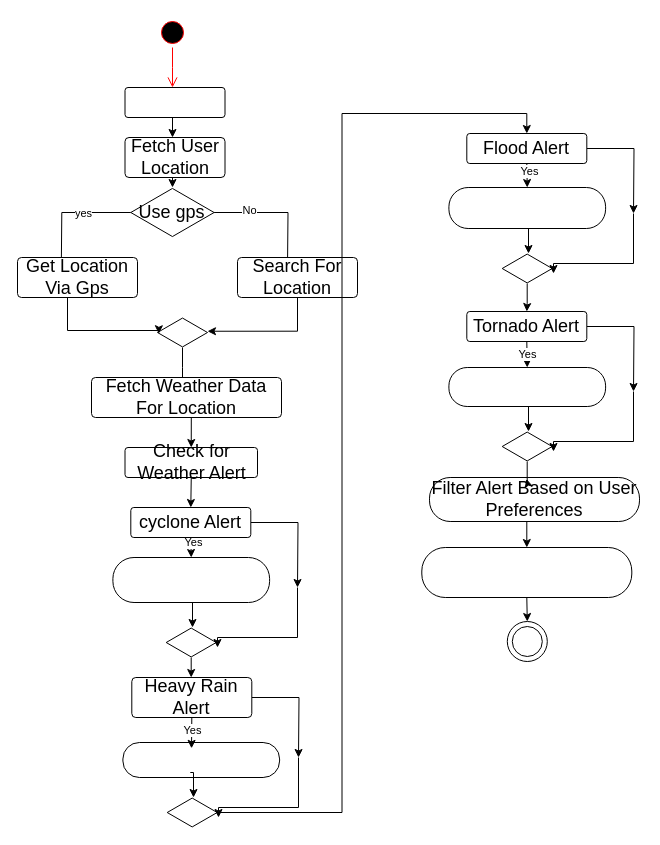
This 660x845 diagram has some shape labels left out. The shapes that lost their labels are listed below. From the top down, each one's box as (x1, y1, x2, y2) in pixels, then its label:
(124, 86, 225, 118): Open App
(448, 186, 606, 228): Generate Flood Alert
(448, 366, 606, 406): Generate Tornado Alert
(112, 556, 270, 602): Generate Cyclone Alert
(421, 546, 632, 598): Send Push Notifications to User
(122, 742, 280, 778): Generate Heavy Rain Alert
